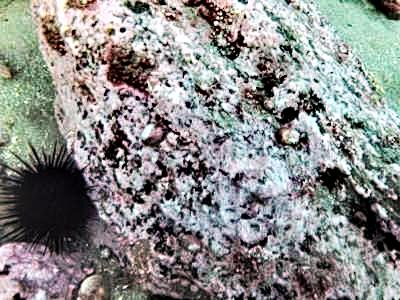urchin: (3, 137, 108, 253)
